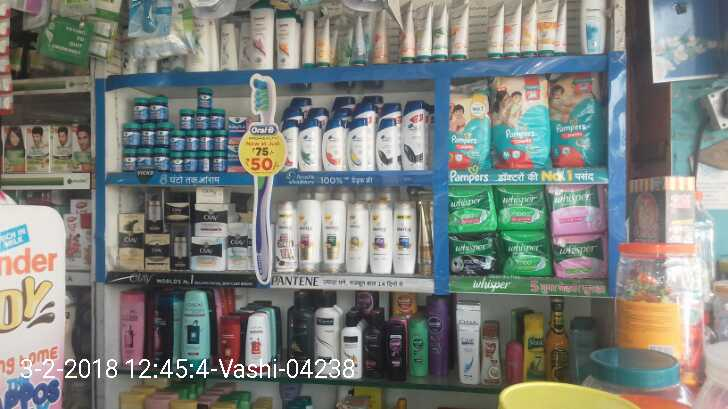beauty: (367, 200, 394, 276), (296, 188, 319, 273), (392, 198, 417, 272), (320, 196, 345, 268), (400, 100, 425, 172), (343, 201, 367, 272), (275, 195, 296, 275), (119, 209, 146, 265), (295, 117, 320, 174), (194, 201, 232, 237), (346, 118, 370, 173), (374, 119, 397, 172), (320, 117, 343, 169), (190, 241, 228, 269), (145, 235, 169, 269), (158, 201, 188, 219)
pharmacy: (549, 72, 610, 172), (487, 76, 549, 165), (452, 85, 491, 170), (544, 187, 610, 235), (497, 230, 557, 276), (551, 234, 608, 282), (450, 185, 500, 230), (449, 233, 501, 276), (497, 189, 550, 230), (180, 108, 228, 132), (133, 97, 169, 121), (196, 84, 214, 110), (120, 124, 140, 147), (139, 124, 156, 148), (185, 132, 200, 157), (167, 156, 184, 176), (170, 129, 184, 152), (122, 149, 135, 172), (184, 157, 200, 175), (154, 128, 167, 148), (209, 156, 224, 173), (154, 155, 169, 172), (200, 132, 212, 153), (211, 134, 225, 152)
